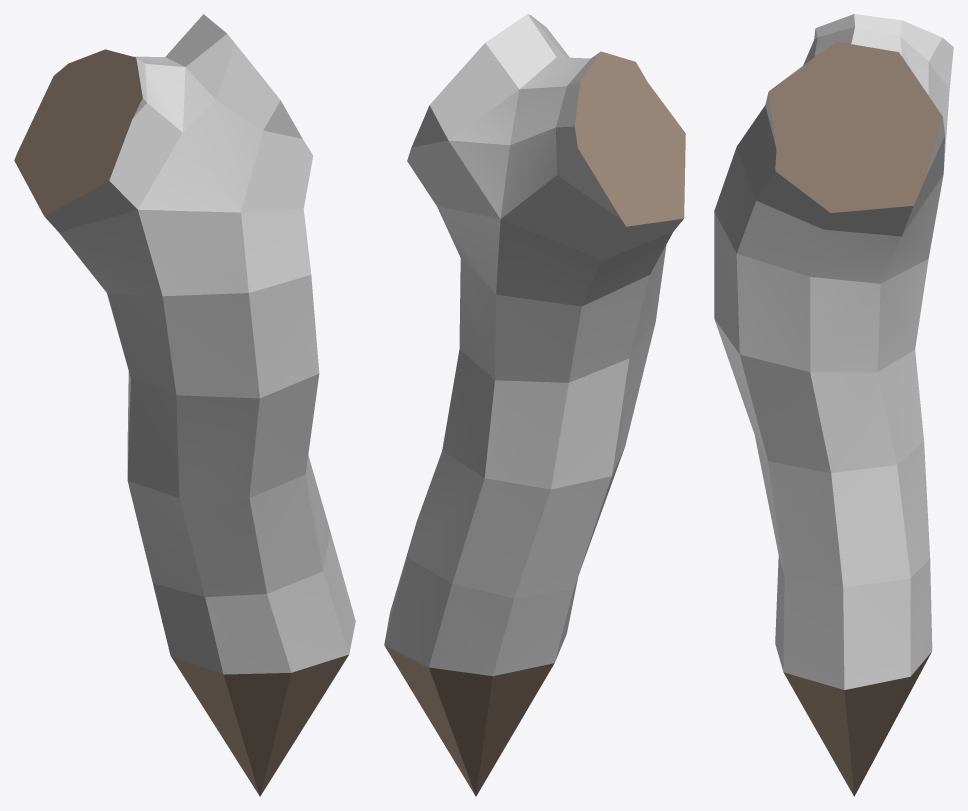
File: butt.fbx
3 renders of one model, left to right at view 1: azimuth 30°, elevation 25°; view 2: azimuth 150°, elevation 25°; view 3: azimuth 270°, elevation 25°, orthographic. The views are drawn at different scales.
Visible parts, largest first — view 1: butt; view 2: butt; view 3: butt.
Boxes of the visible parts, box(x1,y1,x2,y2) form: butt: box(14, 14, 355, 796); butt: box(384, 14, 685, 796); butt: box(714, 14, 953, 796).
Bounding box in the file's own units: 80.21 × 58.5 × 198.
